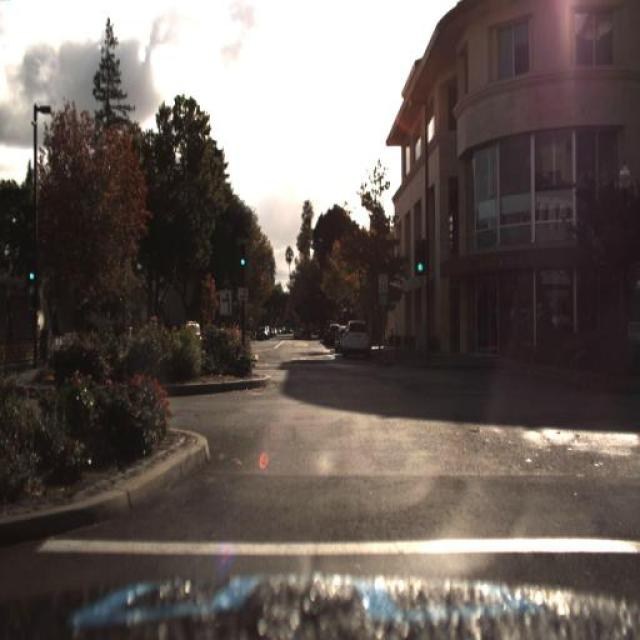car: (338, 318, 370, 362)
trafficLight: (536, 300, 552, 356)
trafficLight-Green: (24, 249, 40, 293), (231, 240, 248, 280), (412, 240, 428, 280)
trafficLight-GreenLeft: (240, 232, 250, 270), (26, 253, 36, 288)
